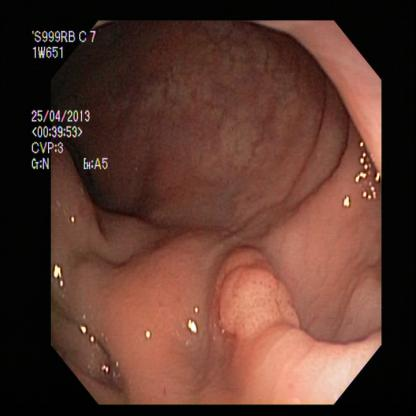Labels: (29, 23, 116, 178)
Polyps: (210, 239, 317, 346)
